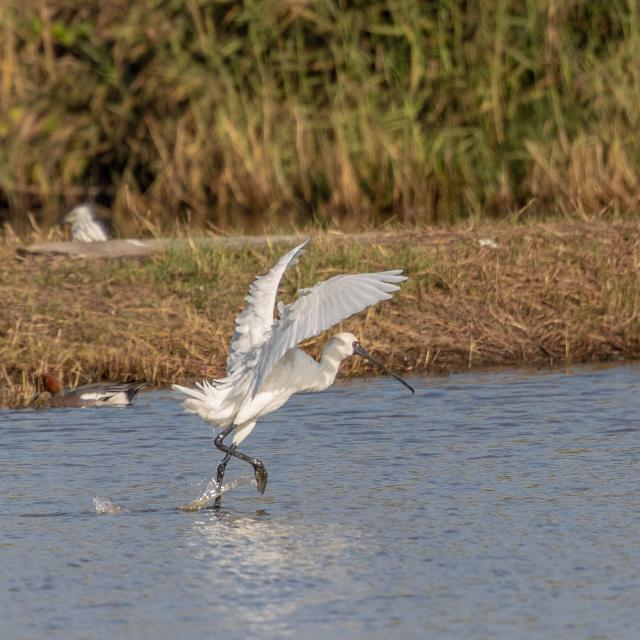Black-faced spoonbill: (173, 240, 413, 492)
